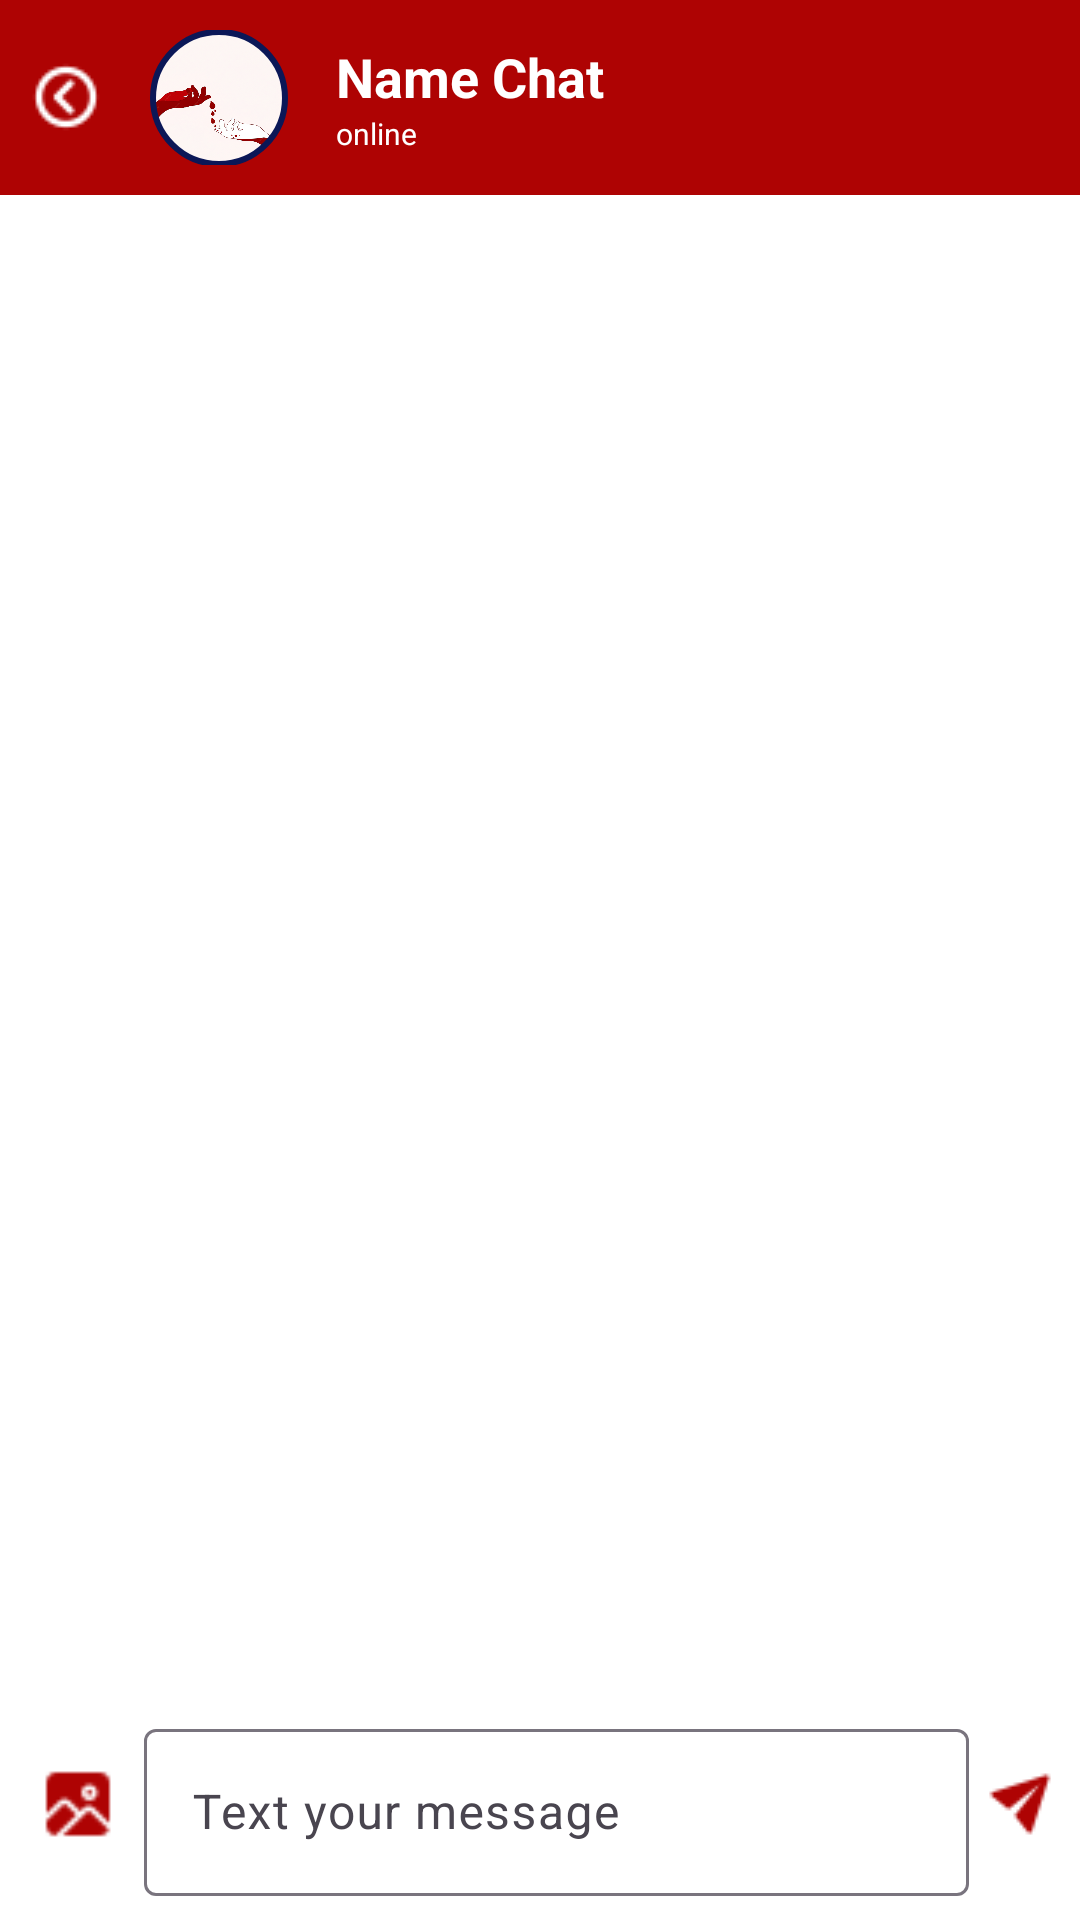

Point at icon controls on the screen. Image size 1080 × 1920, points as point (x, y).
backwhite: point (66, 97)
send: point (1020, 1804)
